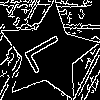L: (23, 28, 76, 75)
